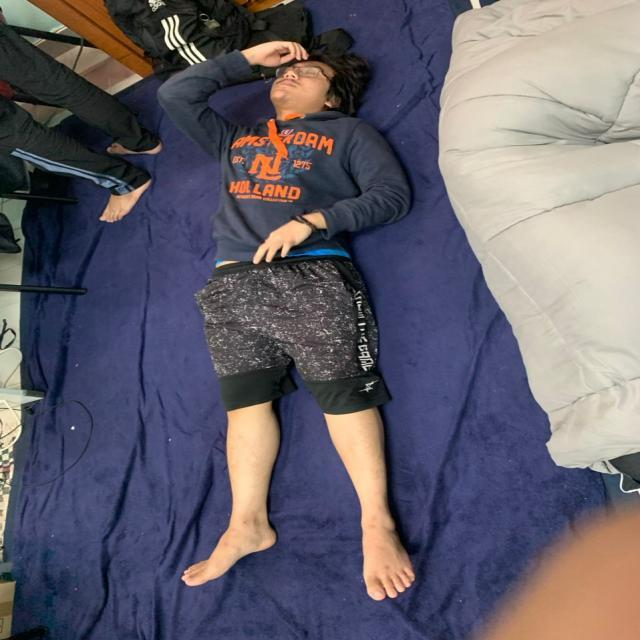fall: (168, 29, 420, 604)
